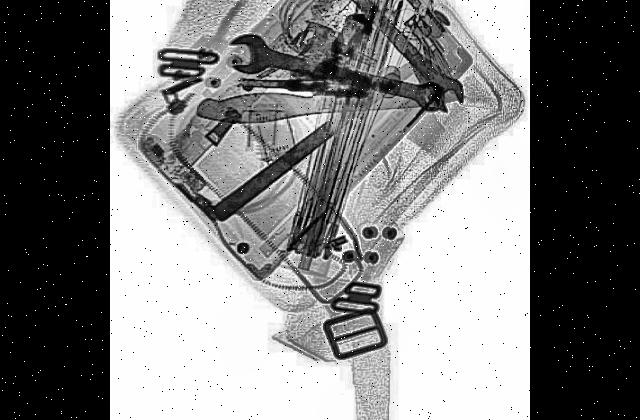Gun: (240, 2, 366, 96)
Knife: (213, 38, 433, 224), (196, 81, 454, 124)
Wrench: (227, 25, 445, 120), (309, 0, 467, 125)
